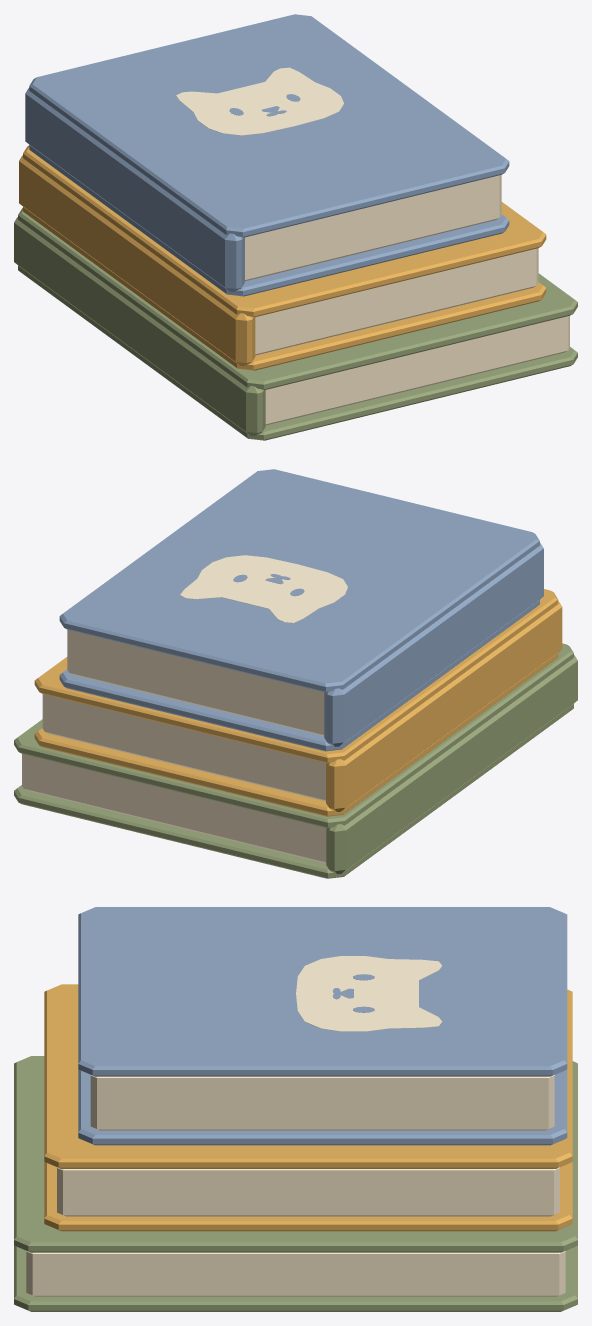
Rendered from notebook-stack.glb.
3 views of the same model, one above another, from view 1: azimuth 30°, elevation 25°; view 2: azimuth 150°, elevation 25°; view 3: azimuth 270°, elevation 25° (orthographic). The views are drawn at different scales.
Parts seen in each view (by area): view 1: 03 小本 · 灰蓝色猫脸, 01 大本 · 灰绿色, 02 中本 · 金黄色; view 2: 03 小本 · 灰蓝色猫脸, 01 大本 · 灰绿色, 02 中本 · 金黄色; view 3: 03 小本 · 灰蓝色猫脸, 02 中本 · 金黄色, 01 大本 · 灰绿色.
Part boxes in pixels (box(x1,y1,x2,y2)): 03 小本 · 灰蓝色猫脸: box(25, 14, 509, 296); 01 大本 · 灰绿色: box(14, 208, 577, 440); 02 中本 · 金黄色: box(19, 145, 546, 370); 03 小本 · 灰蓝色猫脸: box(59, 469, 543, 751); 01 大本 · 灰绿色: box(14, 643, 577, 878); 02 中本 · 金黄色: box(34, 589, 562, 816); 03 小本 · 灰蓝色猫脸: box(78, 907, 567, 1145); 02 中本 · 金黄色: box(44, 984, 572, 1231); 01 大本 · 灰绿色: box(14, 1056, 577, 1311).
Size of the model in its own units: 2.52 by 1.38 by 3.16.
